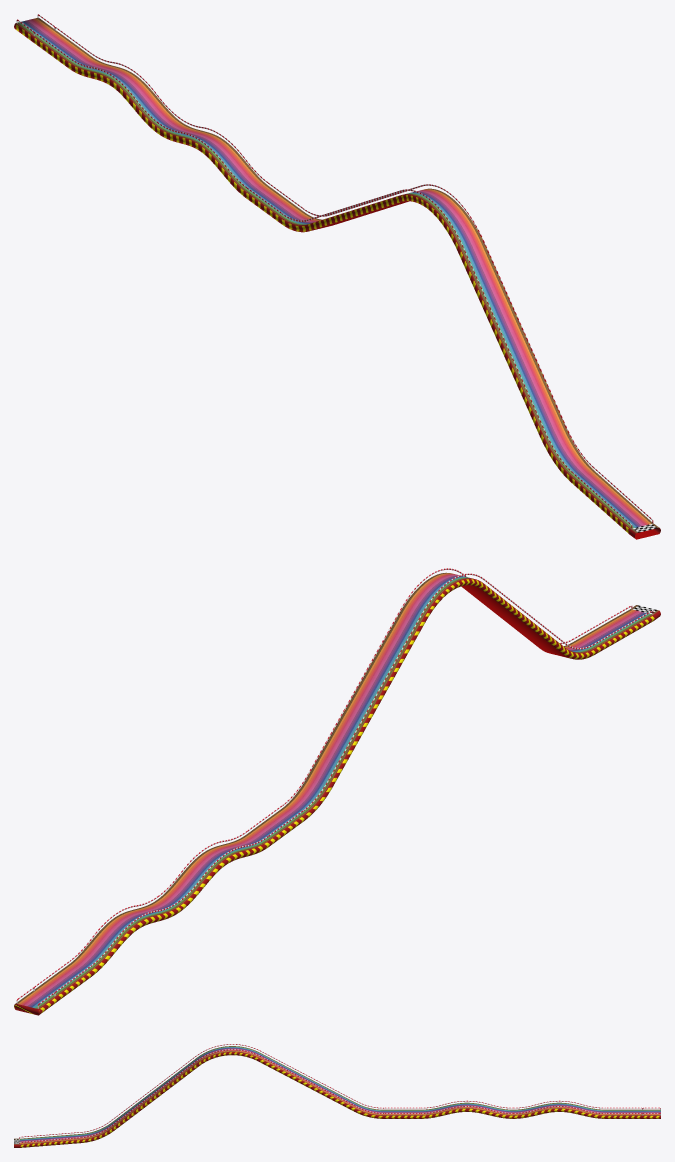
File: map16_bonus.fbx
3 renders of one model, top to bottom at view 1: azimuth 30°, elevation 25°; view 2: azimuth 150°, elevation 25°; view 3: azimuth 270°, elevation 25°, orthographic. The views are drawn at different scales.
Parts seen in each view (by area): view 1: Terrain_Flat_Bar_Bonus_3_3_map_16, Terrain_CurveUp_Bar__1_, Terrain_CurveUp_Bar, Terrain_CurveDown_Bar_Bonus_3_2_map_16, Terrain_Flat_BarEnd_Bonus, Terrain_CurveDown_Bar_Bonus_3_4_map_16, Terrain_Flat_BarStart_1, Terrain_Flat_Bar_Bonus_3_0_map_16, Terrain_Flat_Bar_Bonus_3_1_map_16; view 2: Terrain_Flat_Bar_Bonus_3_1_map_16, Terrain_CurveUp_Bar, Terrain_CurveUp_Bar__1_, Terrain_Flat_Bar_Bonus_3_3_map_16, Terrain_CurveDown_Bar_Bonus_3_2_map_16, Terrain_Flat_BarEnd_Bonus, Terrain_CurveDown_Bar_3_3, Terrain_Flat_Bar_Bonus_3_0_map_16, Terrain_Flat_BarStart_1, Dummy_Start_1; view 3: Terrain_Flat_Bar_Bonus_3_1_map_16, Terrain_Flat_Bar_Bonus_3_3_map_16, Terrain_CurveUp_Bar__1_, Terrain_CurveUp_Bar, Terrain_CurveDown_Bar_Bonus_3_2_map_16, Terrain_Flat_BarEnd_Bonus, Terrain_Flat_BarStart_1, Terrain_Flat_Bar_Bonus_3_0_map_16, Terrain_CurveDown_Bar_Bonus_3_4_map_16, Terrain_CurveDown_Bar_3_3, Dummy_Start_1.
Part boxes in pixels (<box>): Terrain_Flat_Bar_Bonus_3_3_map_16: <box>458,244,565,435</box>; Terrain_CurveUp_Bar__1_: <box>156,121,268,197</box>; Terrain_CurveUp_Bar: <box>67,56,179,131</box>; Terrain_CurveDown_Bar_Bonus_3_2_map_16: <box>399,188,484,251</box>; Terrain_Flat_BarEnd_Bonus: <box>570,471,653,534</box>; Terrain_CurveDown_Bar_Bonus_3_4_map_16: <box>539,427,594,481</box>; Terrain_Flat_BarStart_1: <box>31,30,91,67</box>; Terrain_Flat_Bar_Bonus_3_0_map_16: <box>244,186,303,222</box>; Terrain_Flat_Bar_Bonus_3_1_map_16: <box>307,195,408,230</box>; Terrain_Flat_Bar_Bonus_3_1_map_16: <box>308,612,425,784</box>; Terrain_CurveUp_Bar: <box>69,900,181,975</box>; Terrain_CurveUp_Bar__1_: <box>157,835,270,910</box>; Terrain_Flat_Bar_Bonus_3_3_map_16: <box>461,584,565,654</box>; Terrain_CurveDown_Bar_Bonus_3_2_map_16: <box>400,572,484,621</box>; Terrain_Flat_BarEnd_Bonus: <box>572,609,654,654</box>; Terrain_CurveDown_Bar_3_3: <box>282,776,333,819</box>; Terrain_Flat_Bar_Bonus_3_0_map_16: <box>246,809,305,845</box>; Terrain_Flat_BarStart_1: <box>35,964,93,1001</box>; Dummy_Start_1: <box>14,991,57,1015</box>; Terrain_Flat_Bar_Bonus_3_1_map_16: <box>258,1053,356,1111</box>; Terrain_Flat_Bar_Bonus_3_3_map_16: <box>112,1058,198,1130</box>; Terrain_CurveUp_Bar__1_: <box>421,1102,513,1118</box>; Terrain_CurveUp_Bar: <box>513,1102,605,1118</box>; Terrain_CurveDown_Bar_Bonus_3_2_map_16: <box>197,1046,260,1065</box>; Terrain_Flat_BarEnd_Bonus: <box>20,1134,81,1147</box>; Terrain_Flat_BarStart_1: <box>605,1109,642,1118</box>; Terrain_Flat_Bar_Bonus_3_0_map_16: <box>384,1109,420,1118</box>; Terrain_CurveDown_Bar_Bonus_3_4_map_16: <box>81,1122,113,1142</box>; Terrain_CurveDown_Bar_3_3: <box>354,1103,383,1118</box>; Dummy_Start_1: <box>642,1109,660,1118</box>.
Size of the model in its own units: 512 by 3525 by 21014.
Materials: 8 (7 with a texture image).
